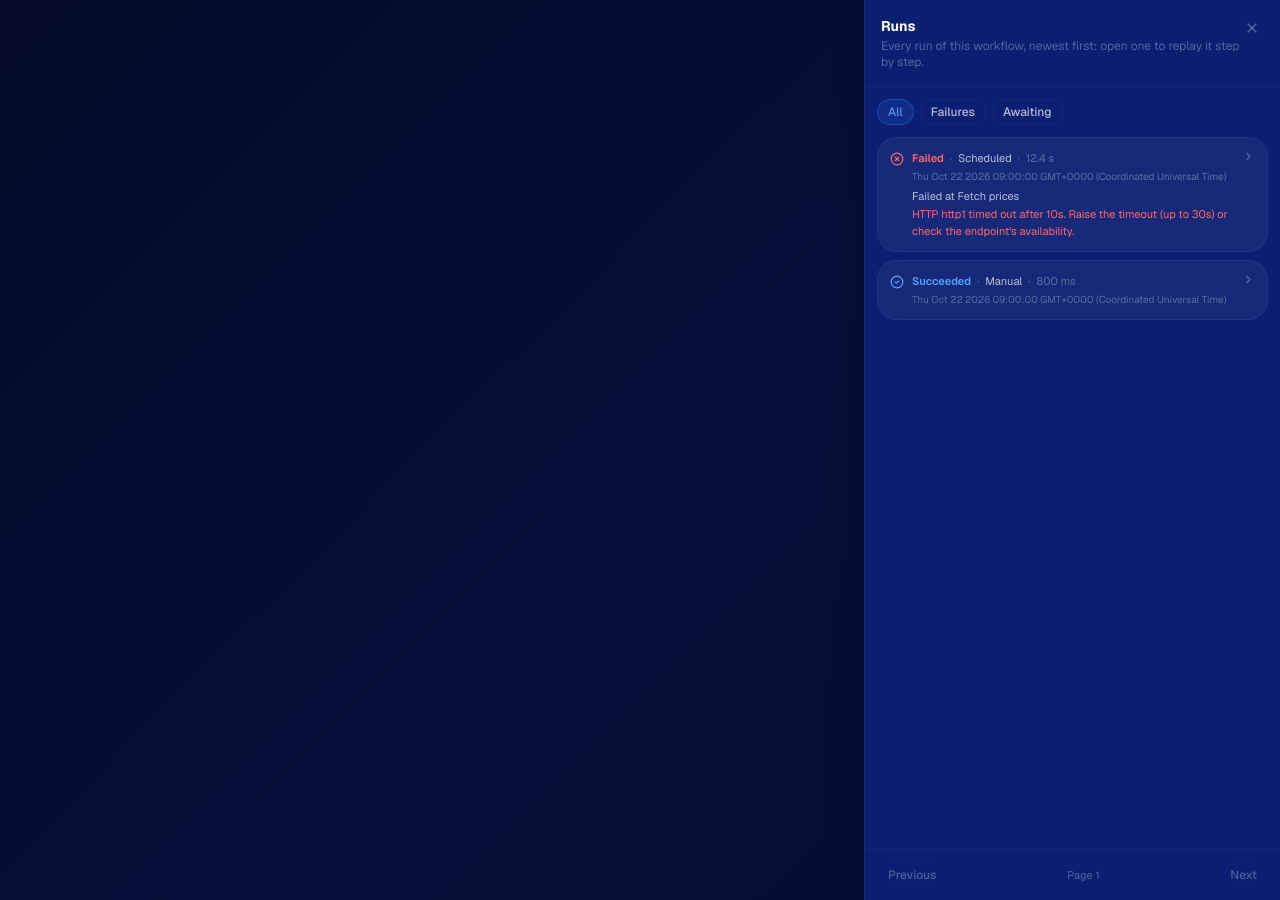
Test case: RunsDrawer › asks the API for failures, then for runs awaiting a decision
Expected: the list item with test id "run-row-r2" is shown, [877,137,1268,252]
Click the tab "Failures" at (953, 112), box [920,99,986,125]
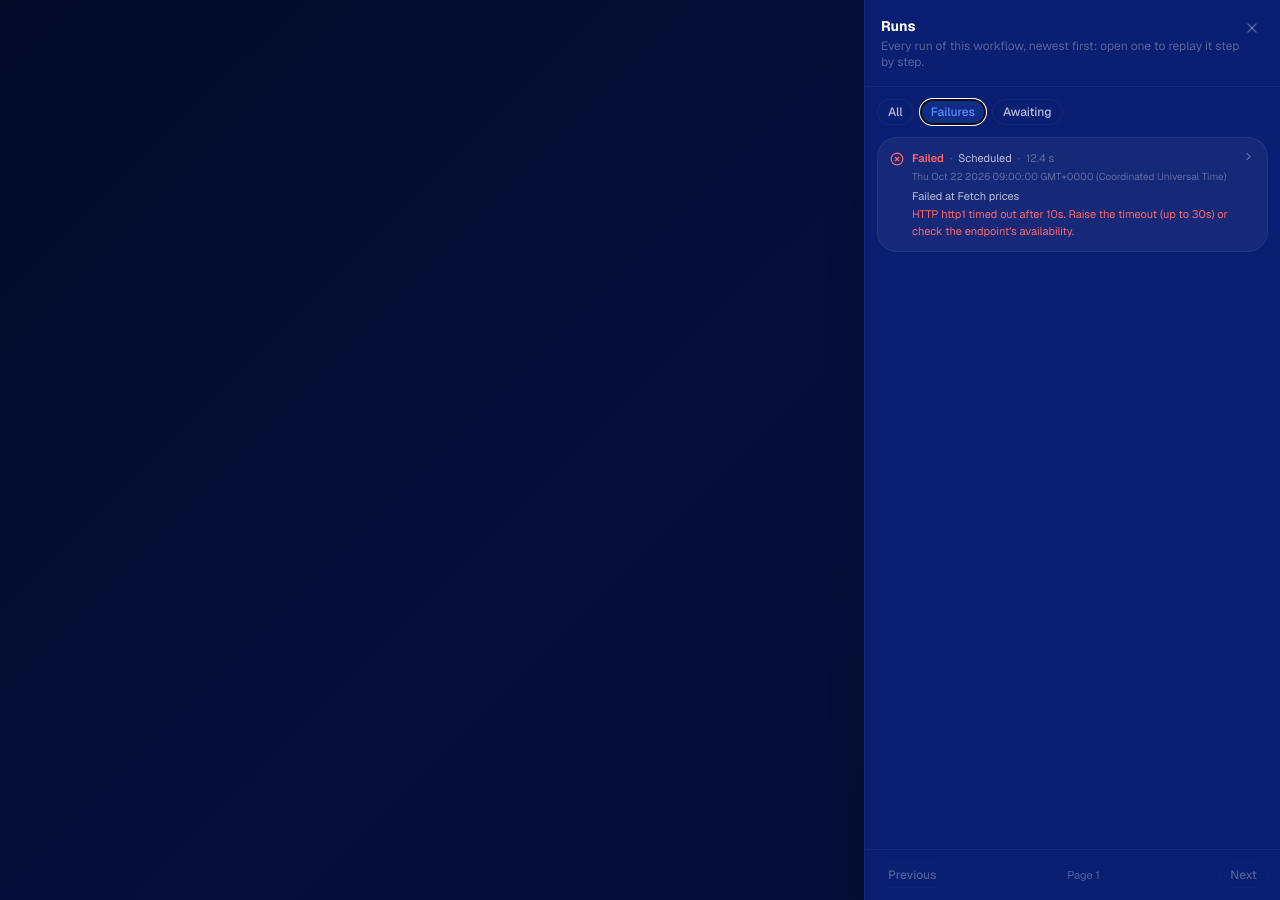
Expected: the list item with test id "run-row-r1" is gone
Click the tab "Awaiting" at (1027, 112), box [992,99,1063,125]
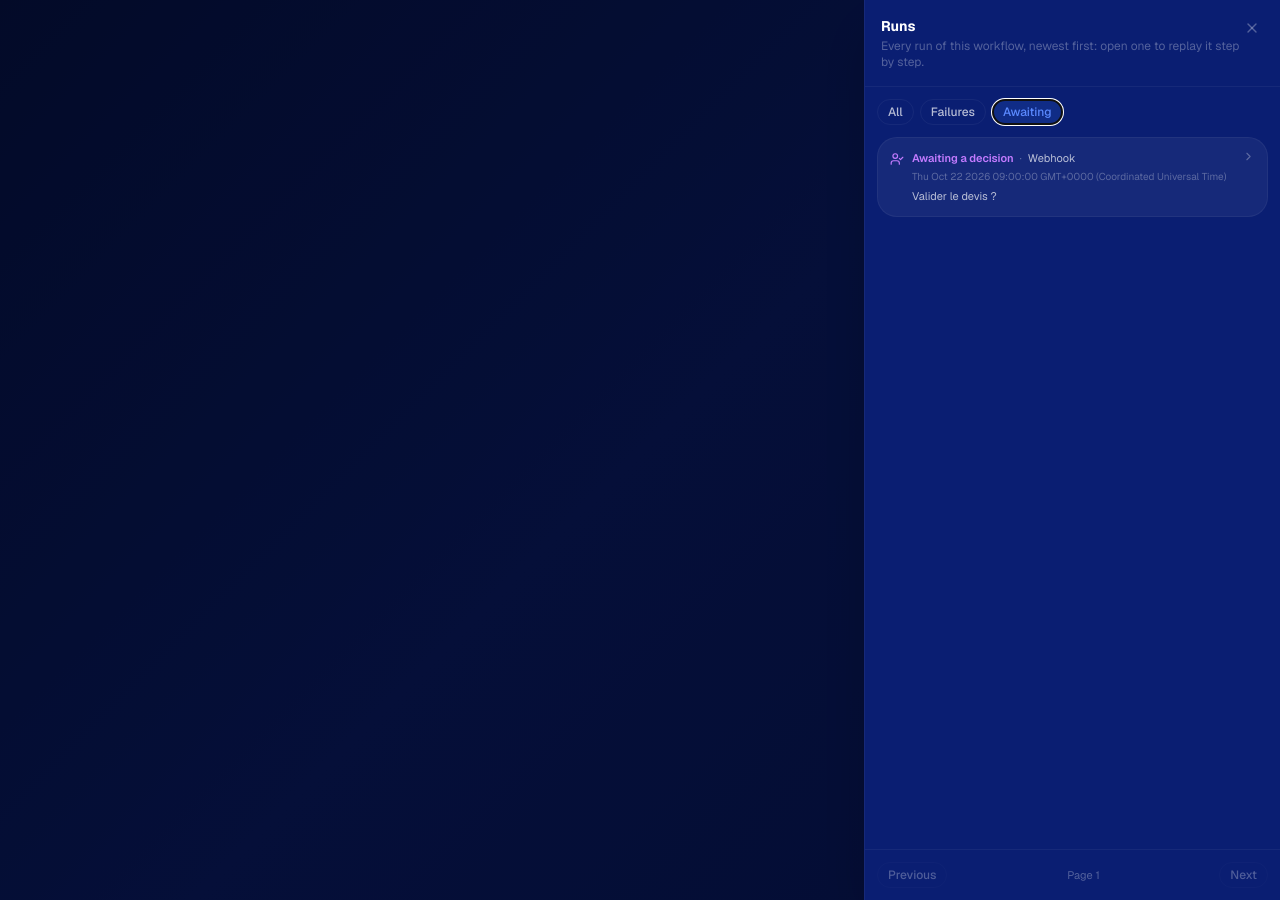
Expected: the text "Valider le devis ?" is shown, [912,188,997,202]
